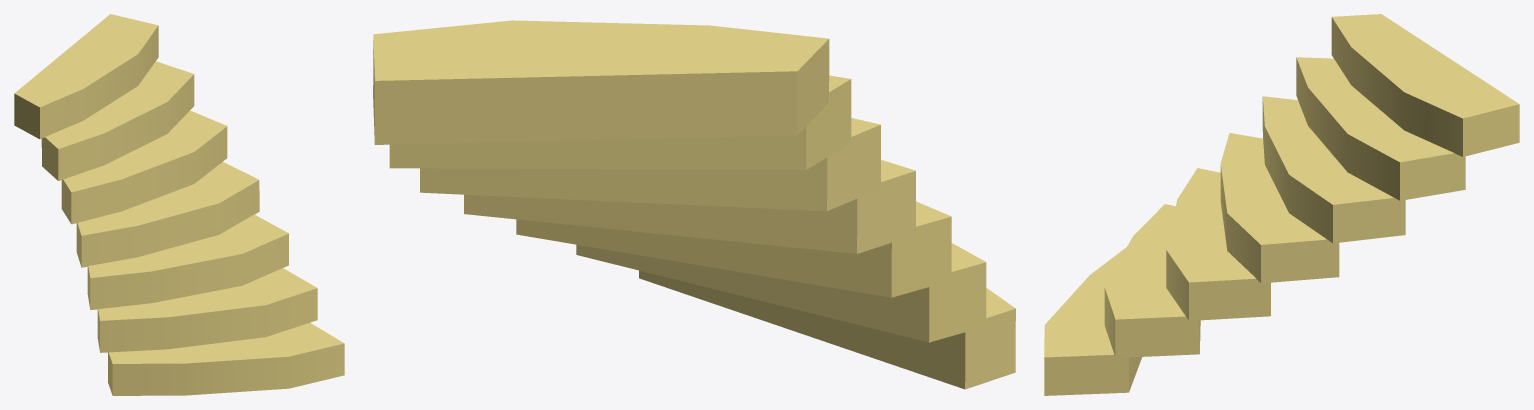
The model's file is tizi2.FBX.
3 views of the same model, side by side, from view 1: azimuth 30°, elevation 25°; view 2: azimuth 150°, elevation 25°; view 3: azimuth 270°, elevation 25° (orthographic). The views are drawn at different scales.
Parts seen in each view (by area): view 1: 对象001; view 2: 对象001; view 3: 对象001.
Part boxes in pixels (x1,y1,x2,y2): 对象001: (14,14,344,395); 对象001: (373,20,1015,389); 对象001: (1044,14,1519,395).
Size of the model in its own units: 1.53 by 1.65 by 2.62.
